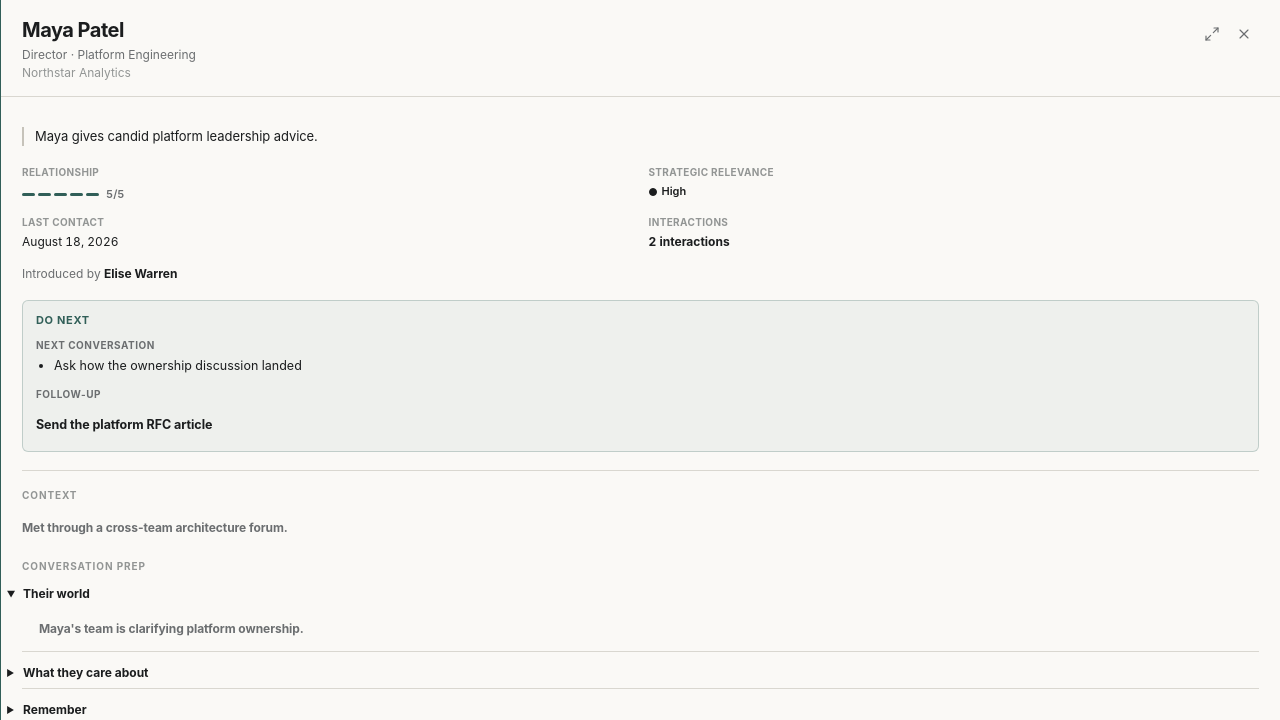
Test: PersonDetail › puts actionable Conversation Prep before interaction history
expect the list item "Ask how the ownership discussion landed" is shown: met, box [54, 358, 302, 373]
expect the text "Maya's team is clarifying platform ownership." is shown: met, box [39, 621, 304, 636]
Click the heading "What they care about": (86, 673) [23, 665, 148, 680]
(page scrolled)
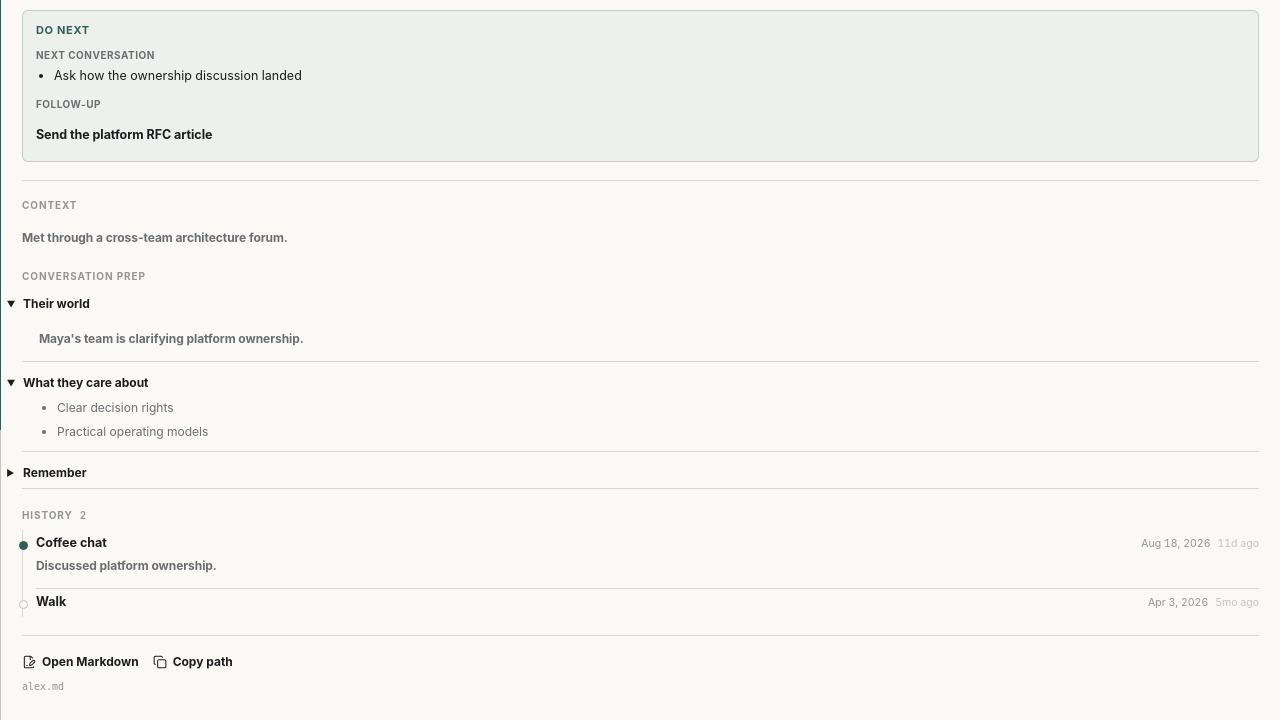
expect the list item "Clear decision rights" is shown: met, box [57, 400, 174, 415]
Click the heading "Remember": (55, 473) [23, 465, 86, 480]
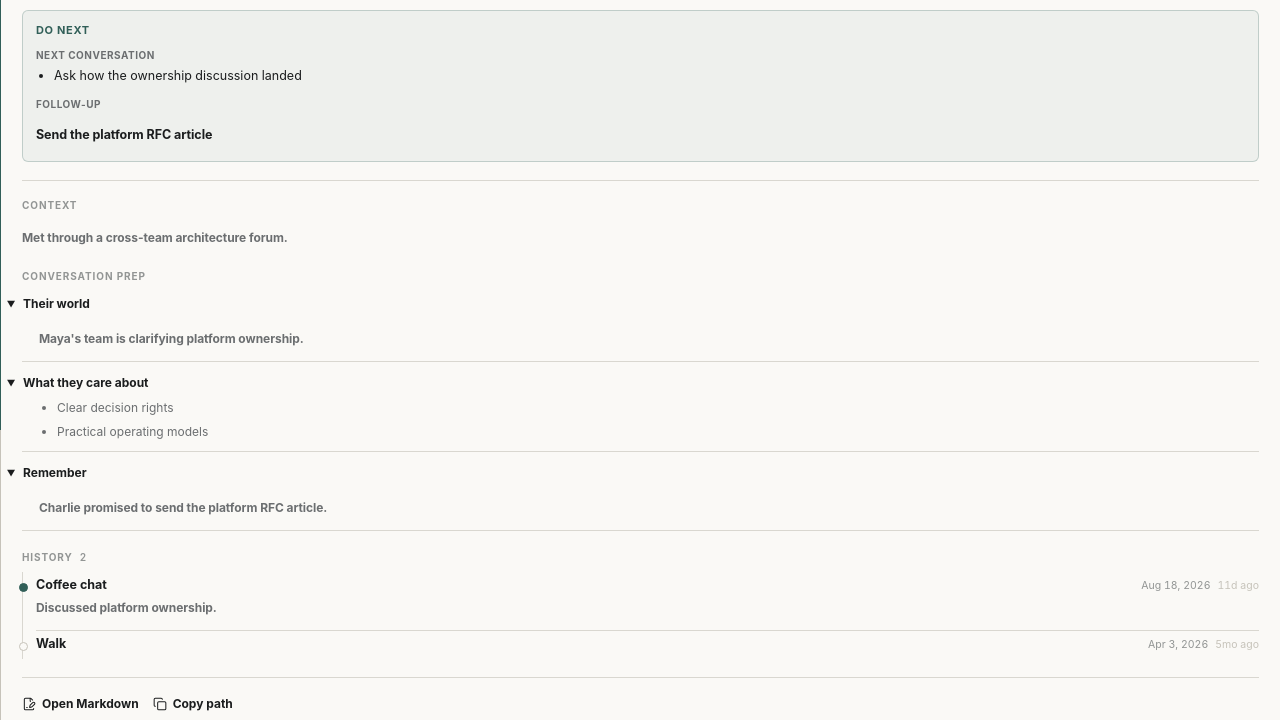
expect the text "Charlie promised to send the platform RFC article." is shown: met, box [39, 500, 327, 515]
